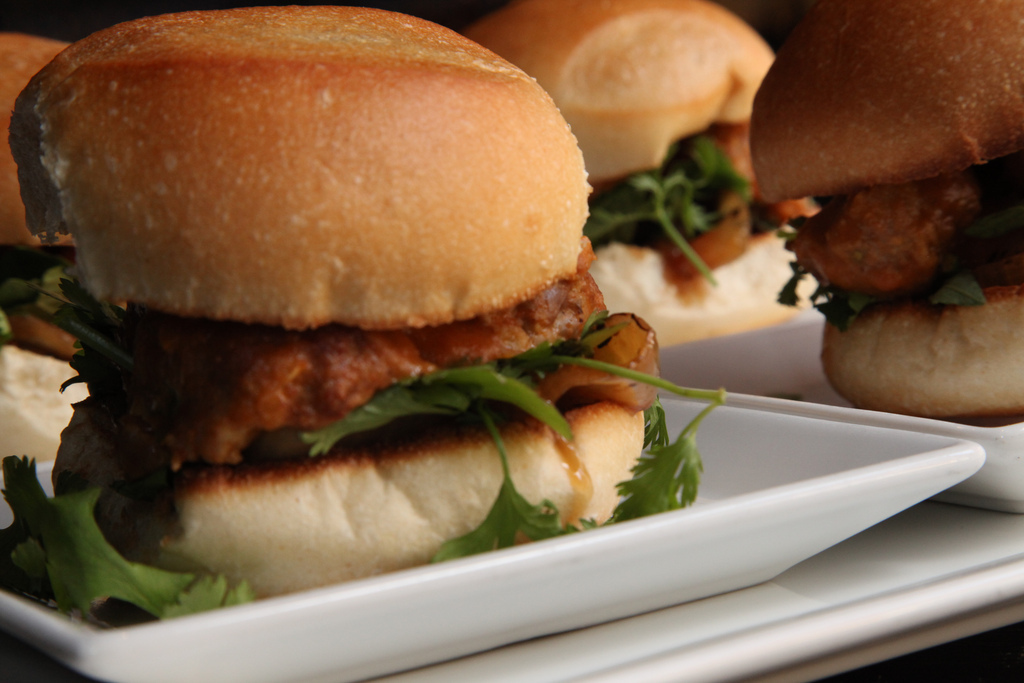Hamburger: (0, 6, 725, 622), (467, 0, 817, 346), (750, 0, 1022, 418), (0, 33, 126, 357)
